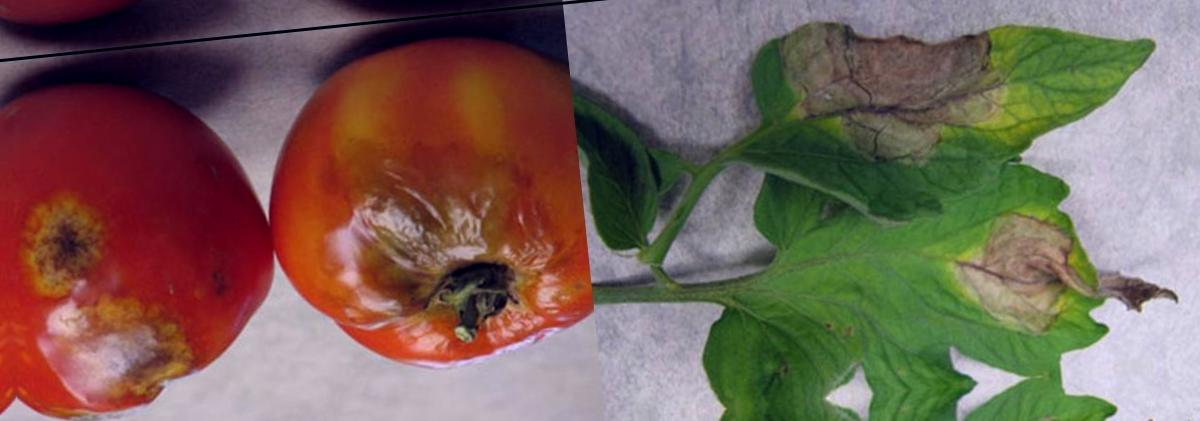Tomato leaf late blight: (648, 145, 1192, 409), (693, 0, 1195, 243)
